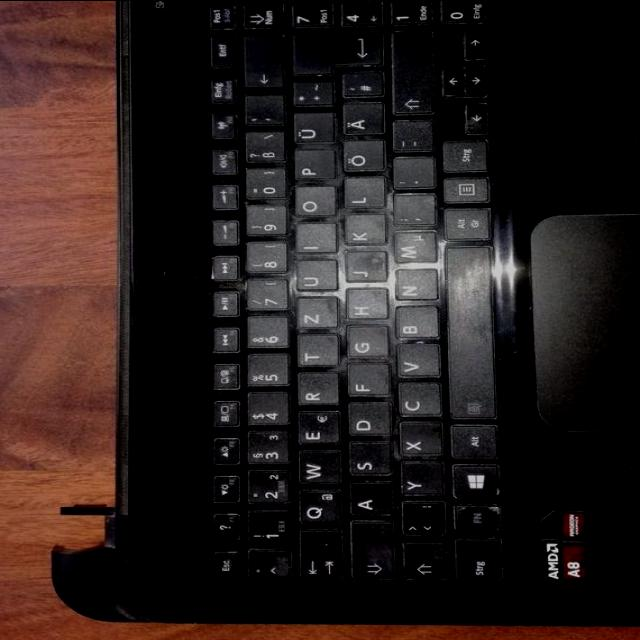0: (239, 169, 283, 203)
1: (243, 512, 289, 548)
2: (242, 472, 288, 508)
3: (242, 432, 288, 468)
4: (242, 393, 287, 429)
5: (242, 356, 287, 390)
6: (242, 318, 286, 352)
7: (240, 281, 284, 313)
8: (240, 244, 284, 277)
9: (241, 207, 283, 239)
a: (344, 485, 390, 519)
accent: (238, 97, 282, 130)
ae: (337, 105, 382, 139)
alt-left: (446, 426, 496, 463)
altgr-right: (438, 210, 486, 244)
b: (390, 308, 436, 344)
c: (392, 384, 439, 420)
caret: (242, 552, 288, 584)
comma: (388, 196, 433, 228)
d: (342, 405, 389, 441)
del: (237, 38, 279, 92)
e: (292, 412, 337, 448)
enter: (285, 35, 381, 81)
f: (342, 366, 387, 400)
g: (340, 329, 385, 362)
h: (340, 291, 385, 324)
hash: (336, 74, 381, 101)
i: (291, 225, 333, 257)
j: (338, 255, 384, 287)
k: (339, 217, 383, 249)
keyboard: (173, 0, 527, 609)
l: (340, 180, 382, 212)
less: (396, 502, 443, 540)
m: (388, 233, 434, 267)
minus: (388, 122, 432, 156)
n: (389, 271, 435, 304)
o: (289, 189, 333, 221)
oe: (337, 142, 382, 175)
p: (288, 153, 333, 184)
plus: (285, 84, 331, 110)
point: (388, 159, 432, 192)
q: (292, 492, 339, 529)
r: (292, 374, 336, 410)
s: (343, 445, 389, 481)
shift-left: (397, 544, 445, 586)
shift-lock: (344, 523, 392, 585)
shift-right: (385, 33, 430, 119)
space: (439, 249, 493, 423)
ss: (240, 133, 282, 166)
strg-left: (448, 539, 500, 587)
strg-right: (437, 142, 485, 176)
t: (291, 336, 335, 370)
tab: (292, 533, 340, 585)
u: (290, 262, 335, 296)
ue: (287, 115, 333, 148)
v: (391, 346, 437, 382)
w: (291, 452, 339, 488)
x: (393, 424, 439, 460)
y: (394, 463, 441, 499)
z: (291, 300, 335, 332)
